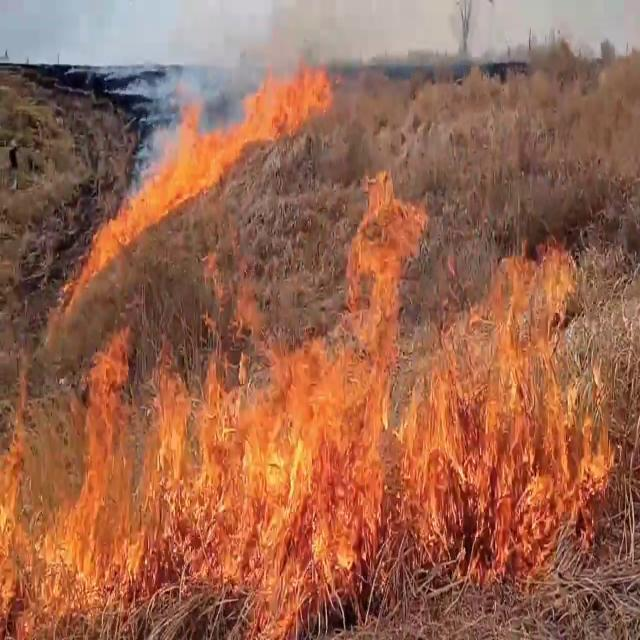Fire: (0, 176, 640, 640), (153, 34, 333, 203), (64, 148, 175, 313)
